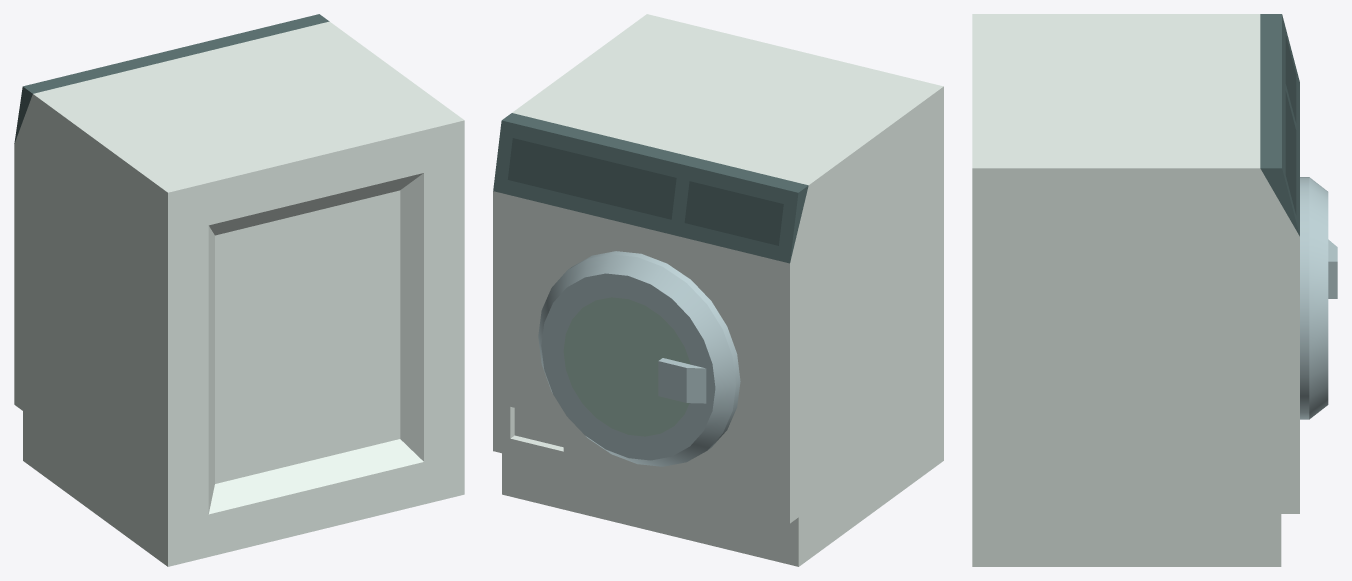
File: washer.fbx
3 renders of one model, left to right at view 1: azimuth 30°, elevation 25°; view 2: azimuth 150°, elevation 25°; view 3: azimuth 270°, elevation 25°, orthographic. The views are drawn at different scales.
Parts seen in each view (by area): view 1: washer; view 2: washer, washerDoor; view 3: washer, washerDoor.
Boxes of the visible parts, x1,y1,x2,y2 form: washer: [14, 14, 464, 566]; washer: [493, 14, 943, 566]; washerDoor: [538, 251, 740, 466]; washer: [972, 14, 1299, 566]; washerDoor: [1300, 177, 1337, 419].
Size of the model in its own units: 3.9 by 4.7 by 3.9.
